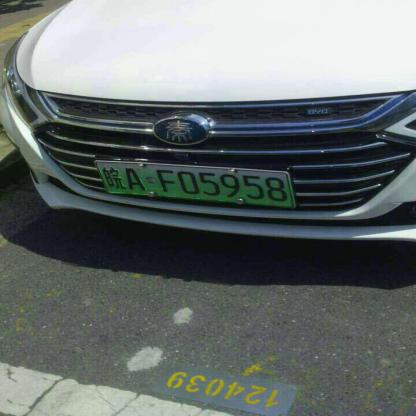lp: (89, 160, 297, 209)
